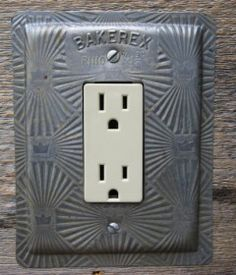outlet: (95, 90, 132, 131), (95, 160, 131, 201)
